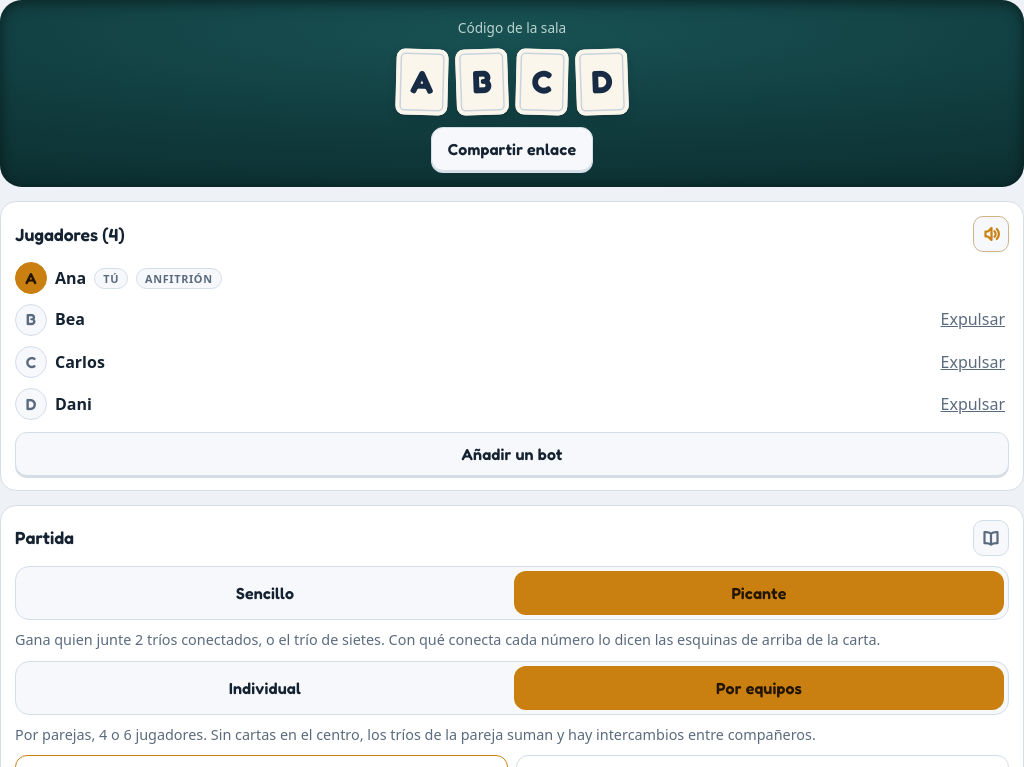
dónde se leen › en la sala, diciendo a qué se va a jugar
The width and height of the screenshot is (1024, 767).
Step 1. Click the button named "Reglas del juego" → (991, 538), box [973,520,1009,556]
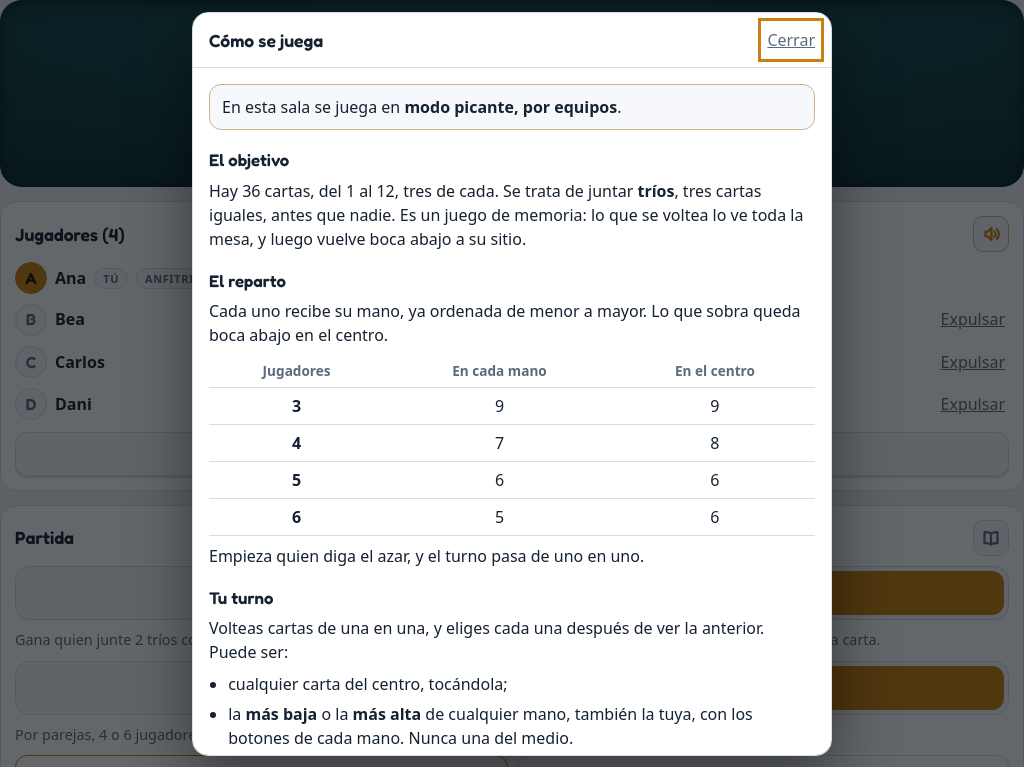
Expected: the text "modo picante, por equipos" is shown, [404,96,617,118]
